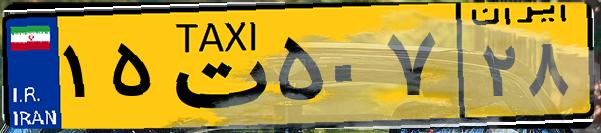0: (330, 28, 385, 110)
1: (57, 26, 110, 100)
2: (475, 38, 525, 113)
5: (270, 28, 330, 110), (110, 28, 158, 98)
7: (385, 28, 445, 110)
8: (525, 38, 570, 115)
ت: (158, 12, 270, 120)
